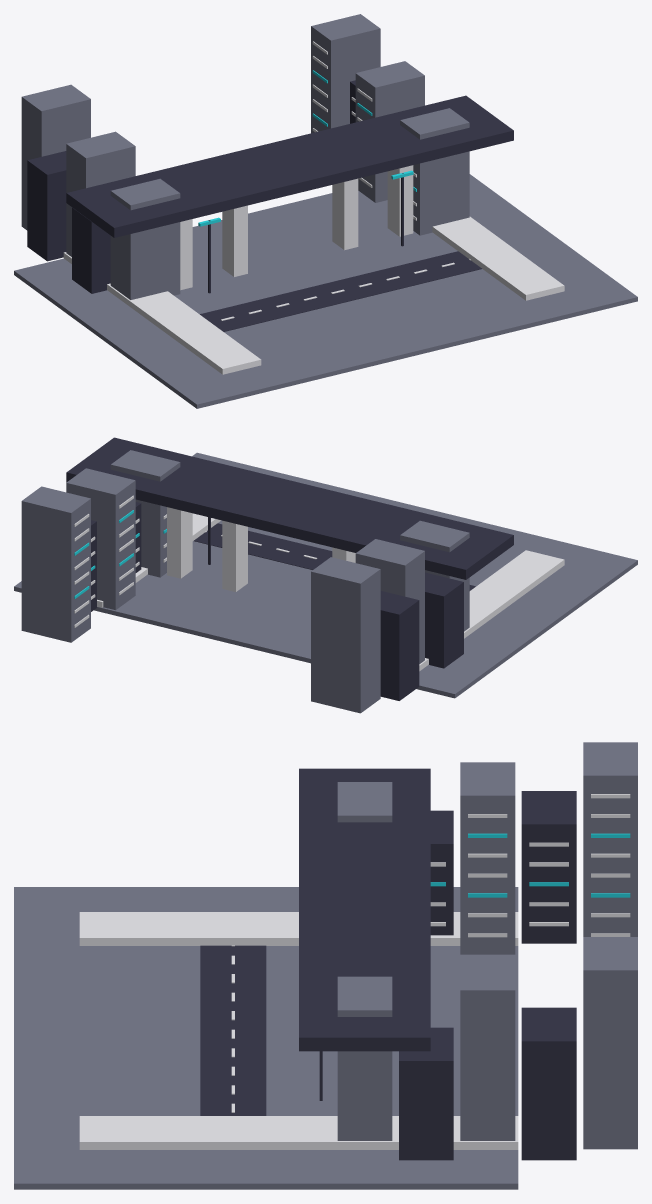
The model's file is district_2.glb.
3 views of the same model, one above another, from view 1: azimuth 30°, elevation 25°; view 2: azimuth 150°, elevation 25°; view 3: azimuth 270°, elevation 25° (orthographic). The views are drawn at different scales.
Visible parts, largest first — view 1: ArenaFloor, Flyover, FightLane, Building, Building.009, Building.005, Building.004, Sidewalk, Sidewalk.001, Building.003, Building.007, Building.002 (+5 smaller); view 2: ArenaFloor, Flyover, Building.004, Building.009, Building.007, Building.003, Sidewalk, Building.001, Building.002, Building.005, FightLane, Building (+5 smaller); view 3: ArenaFloor, Flyover, Building.009, FightLane, Sidewalk.001, Building.007, Building.002, Building.004, Building.008, Sidewalk, Building.003, Building.005 (+3 smaller).
Part boxes in pixels (x1,y1,x2,y2): ArenaFloor: [14, 174, 637, 408]; Flyover: [66, 95, 513, 237]; FightLane: [200, 251, 481, 331]; Building: [110, 178, 180, 299]; Building.009: [311, 14, 380, 133]; Building.005: [400, 108, 469, 235]; Building.004: [21, 84, 90, 230]; Sidewalk: [63, 252, 261, 374]; Sidewalk.001: [432, 216, 564, 300]; Building.003: [27, 151, 66, 261]; Building.007: [355, 61, 424, 202]; Building.002: [66, 131, 135, 256]; ArenaFloor: [14, 452, 637, 698]; Flyover: [66, 437, 513, 579]; Building.004: [311, 557, 380, 713]; Building.009: [21, 486, 90, 642]; Building.007: [66, 468, 135, 610]; Building.003: [380, 591, 419, 700]; Sidewalk: [419, 550, 564, 671]; Building.001: [425, 572, 463, 668]; Building.002: [355, 539, 424, 663]; Building.005: [110, 450, 180, 577]; FightLane: [194, 523, 475, 590]; Building: [400, 520, 469, 631]; ArenaFloor: [14, 887, 518, 1189]; Flyover: [299, 768, 430, 1051]; Building.009: [583, 937, 637, 1149]; FightLane: [200, 945, 266, 1115]; Sidewalk.001: [79, 1116, 518, 1149]; Building.007: [460, 957, 515, 1140]; Building.002: [460, 762, 515, 954]; Building.004: [583, 742, 637, 936]; Building.008: [521, 1007, 576, 1160]; Sidewalk: [79, 912, 518, 945]; Building.003: [521, 791, 576, 943]; Building.005: [337, 976, 392, 1140].
Bounding box in the file's own units: 32 × 9.3 × 28.45.
